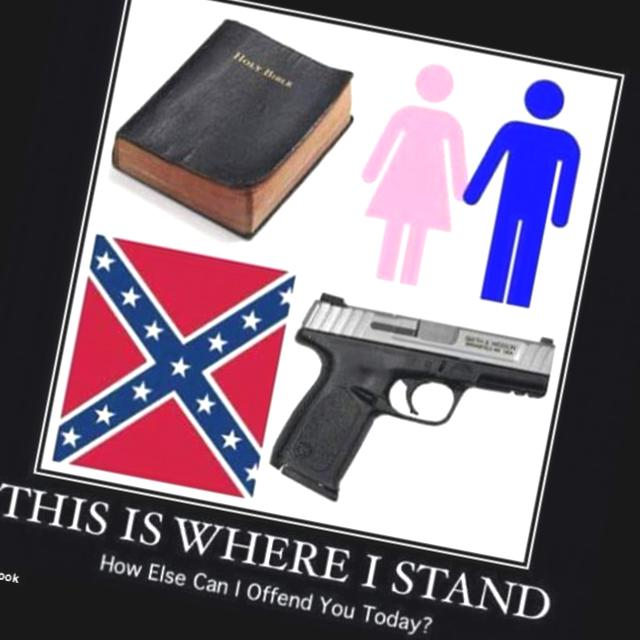handgun: (260, 282, 560, 540)
